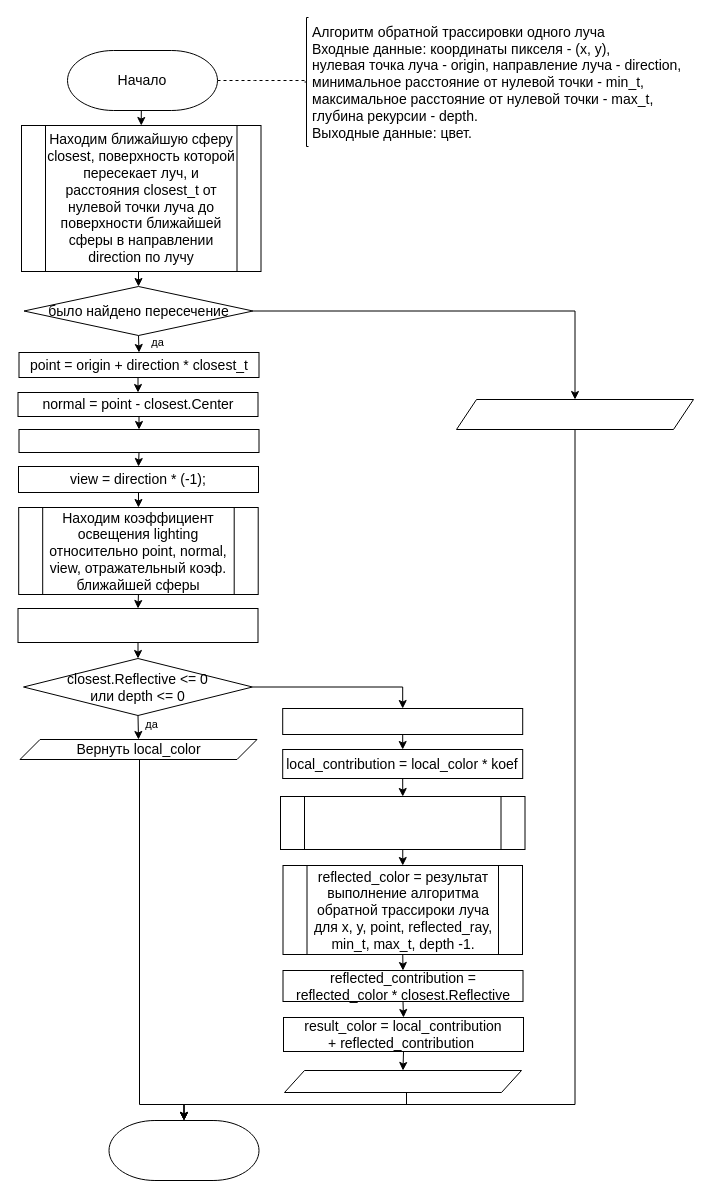
This 714x1198 diagram has some shape labels left out. The shapes that lost their labels are listed below. From the top down, each one's centre as x and y in pixels, then its label:
At [575,414]: "Вернуть background_color".
At [138,440]: "Нормализовать вектор normal".
At [137,625]: "local_color = closest.Color * lighting".
At [402,721]: "koef = 1 - closest.Reflective".
At [402,823]: "Находим направление отражённого луча reflected_ray".
At [403,1081]: "Вернуть result_color".
At [183,1150]: "Конец".
